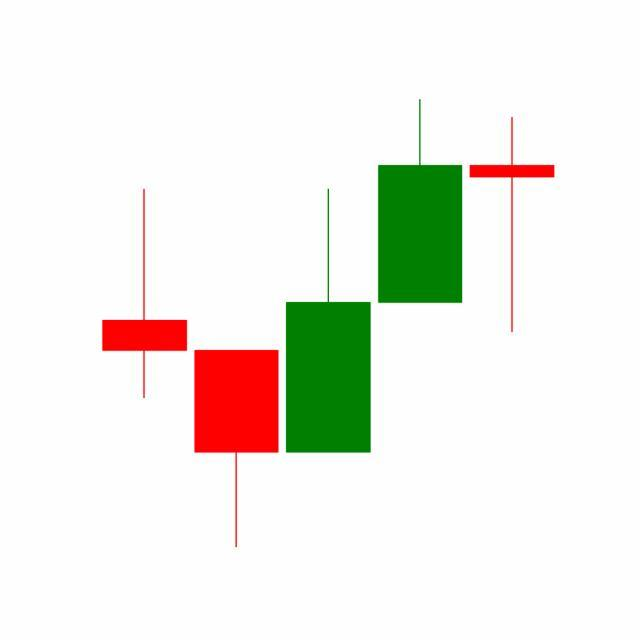Spinning Top: (466, 116, 559, 336)
